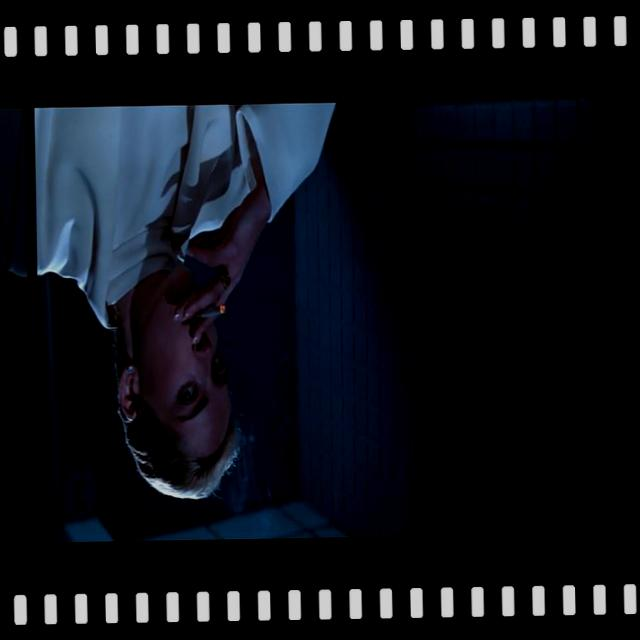smoke: (184, 286, 235, 332)
